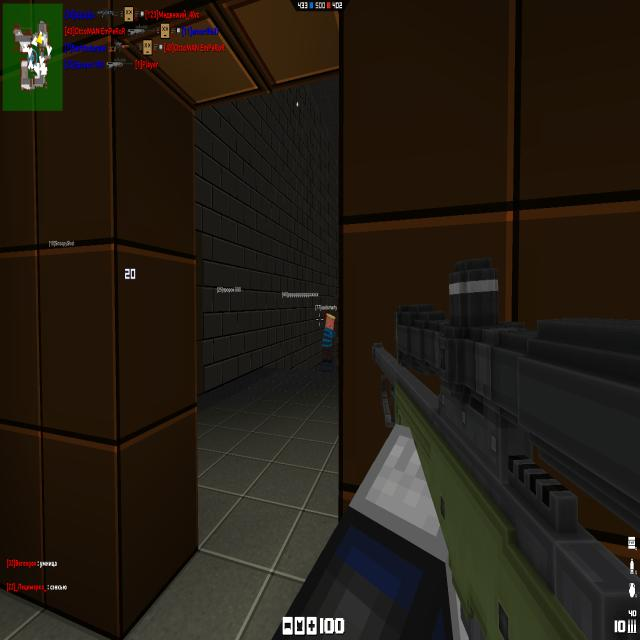player: (322, 312, 336, 362)
